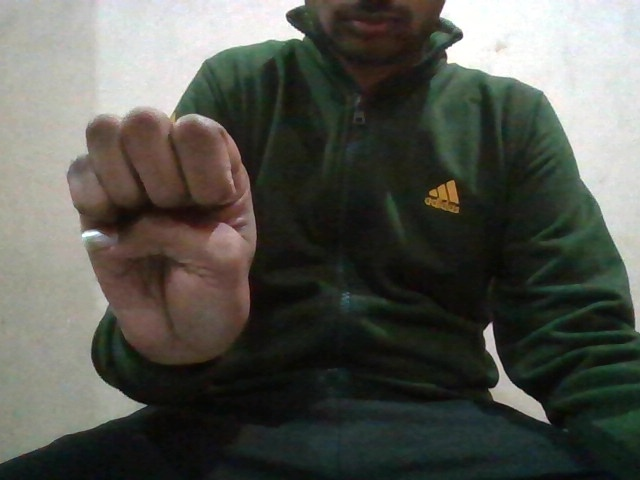E: (62, 108, 258, 362)
